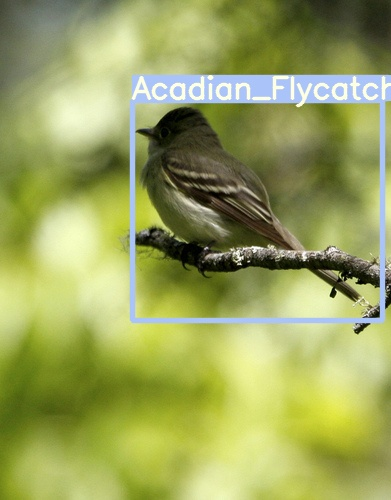Acadian_Flycatcher: (126, 101, 369, 309)
